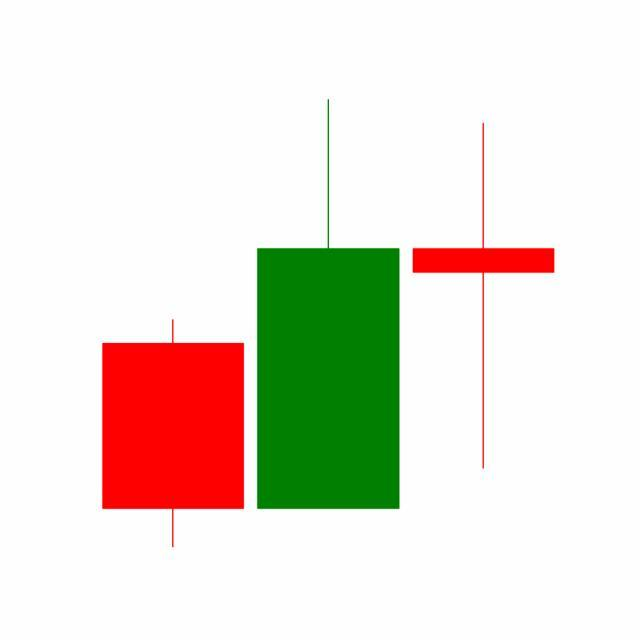Spinning Top: (406, 119, 562, 474)
